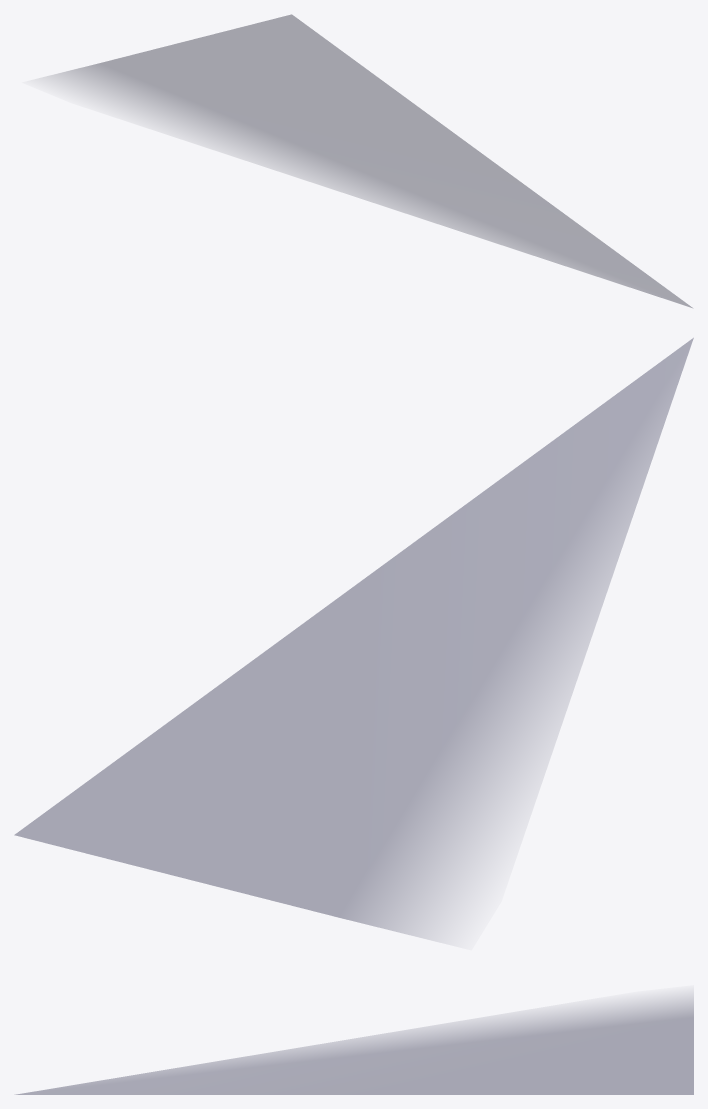
3 renders of one model, top to bottom at view 1: azimuth 30°, elevation 25°; view 2: azimuth 150°, elevation 25°; view 3: azimuth 270°, elevation 25°, orthographic. The views are drawn at different scales.
Parts seen in each view (by area): view 1: Joint_0_Object_0; view 2: Joint_0_Object_0; view 3: Joint_0_Object_0.
Part boxes in pixels (left/top/right/bottom): Joint_0_Object_0: left=52, top=14, right=692, bottom=307; Joint_0_Object_0: left=15, top=338, right=693, bottom=937; Joint_0_Object_0: left=16, top=997, right=693, bottom=1094.
Size of the model in its own units: 234 by 1.79 by 587.
Materials: 1 (1 with a texture image).
